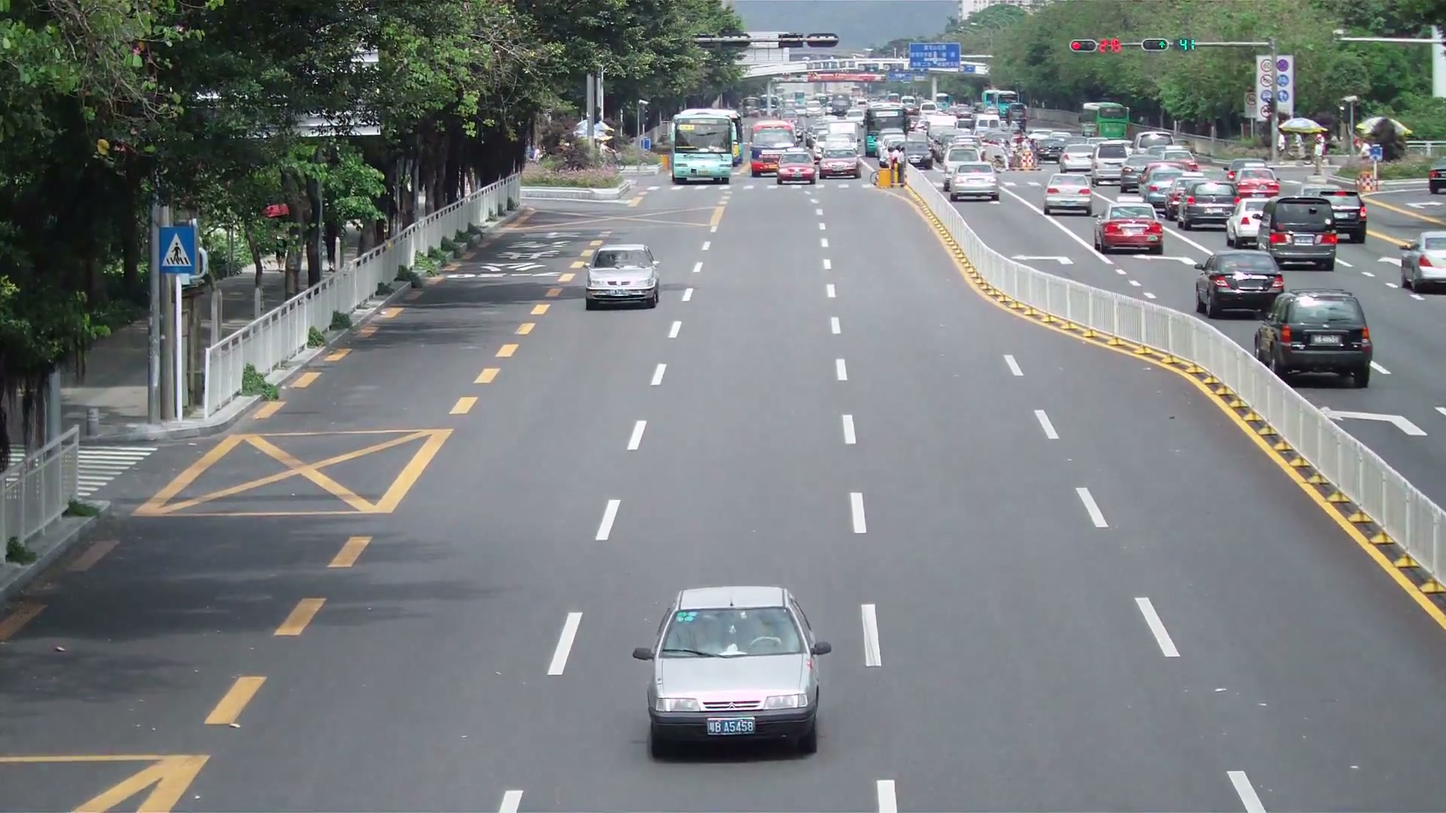bus: (672, 108, 738, 185)
car: (634, 586, 832, 760), (1255, 287, 1373, 387), (1193, 249, 1284, 316), (1261, 198, 1338, 271), (582, 240, 660, 310), (1095, 200, 1166, 256), (1178, 177, 1238, 228), (1399, 232, 1446, 294), (1316, 189, 1368, 243), (1224, 200, 1277, 250), (1042, 170, 1094, 215), (949, 163, 1000, 202), (776, 151, 816, 185), (1428, 167, 1445, 195)
